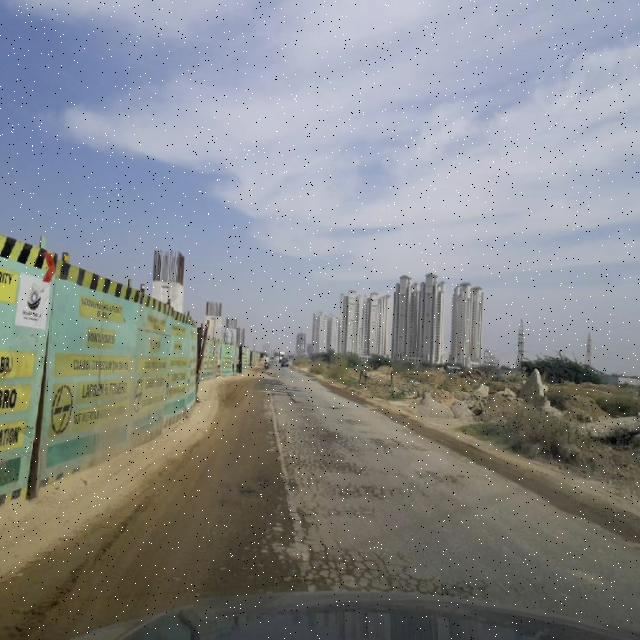D20: (204, 427, 414, 522), (231, 527, 499, 595)
D40: (416, 462, 469, 491)
